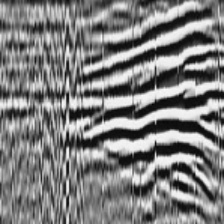cavities: (80, 1, 224, 224)
